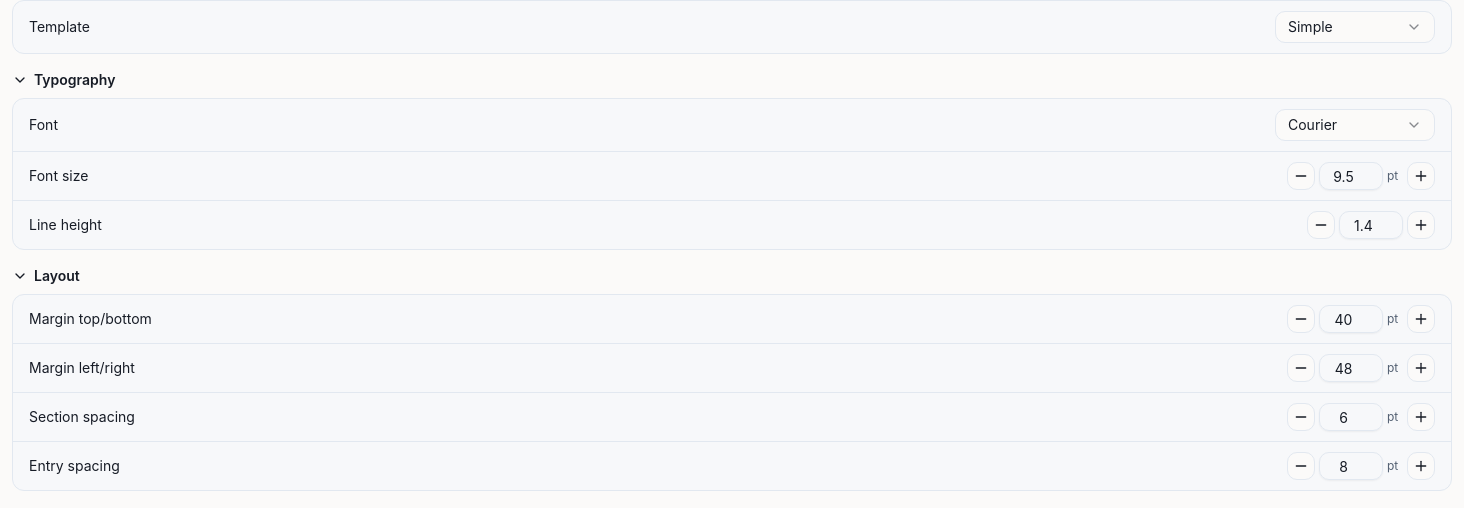
Test: ExportSettingsPanel — disclosure › summarises Typography with all three of its values
The width and height of the screenshot is (1464, 508).
Step 1. Click the button "Typography" → x=75, y=80, box [12,70,1452,90]
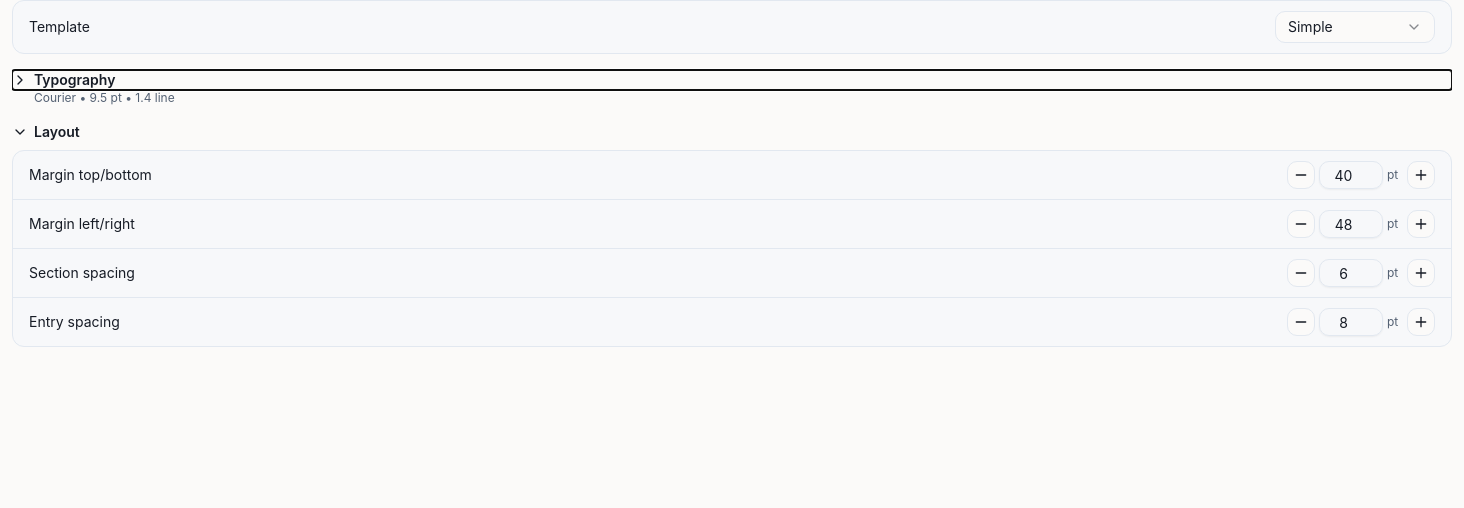
Expected: the text "Courier • 9.5 pt • 1.4 line" is shown, [34,90,175,105]
